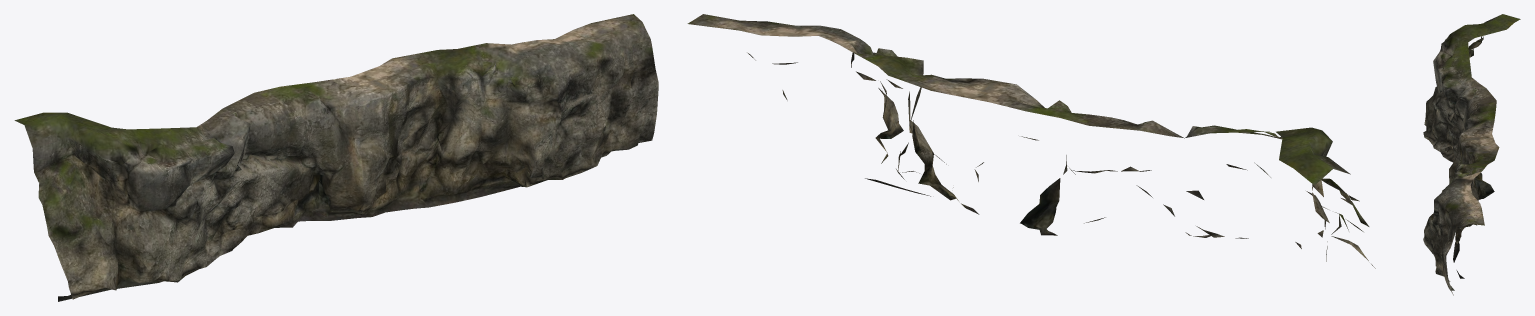
Rendered from hill_ledge.glb.
The picture shows the model from 3 angles, left to right: view 1: azimuth 30°, elevation 25°; view 2: azimuth 150°, elevation 25°; view 3: azimuth 270°, elevation 25°; orthographic projection. The views are drawn at different scales.
Visible parts, largest first — view 1: hill_ledge; view 2: hill_ledge; view 3: hill_ledge.
Part boxes in pixels (x1,y1,x2,y2): hill_ledge: (14,14,658,301); hill_ledge: (687,14,1375,268); hill_ledge: (1423,14,1520,295).
Size of the model in its own units: 40.91 by 9.99 by 8.56.
1 material, 1 textured.
